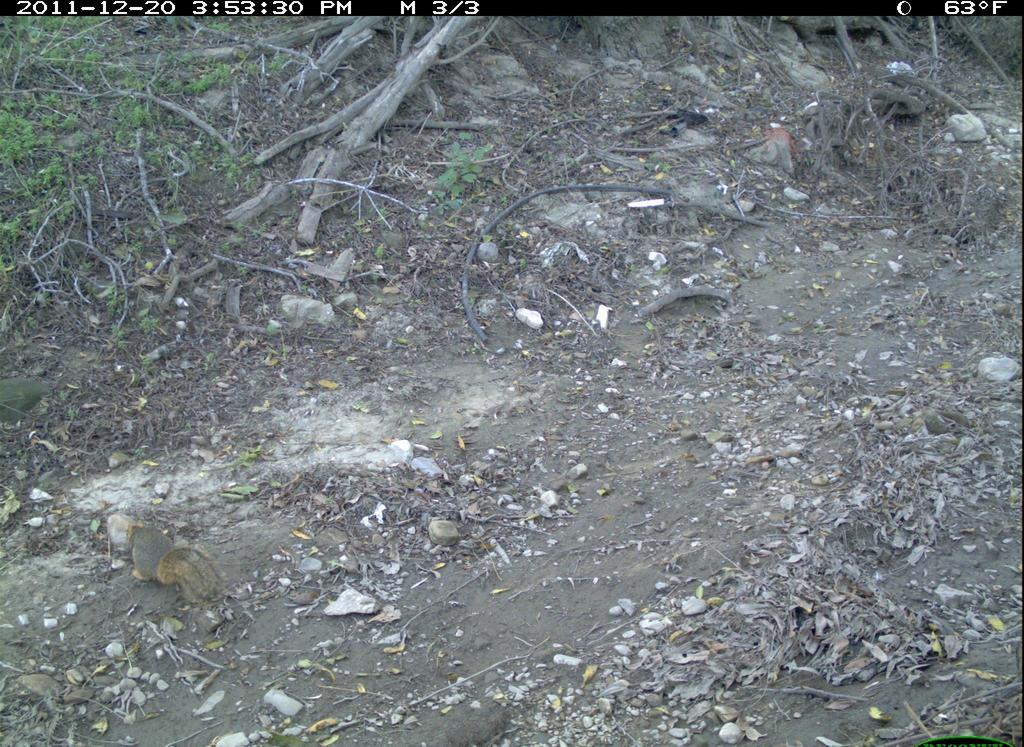squirrel: (97, 496, 241, 614)
